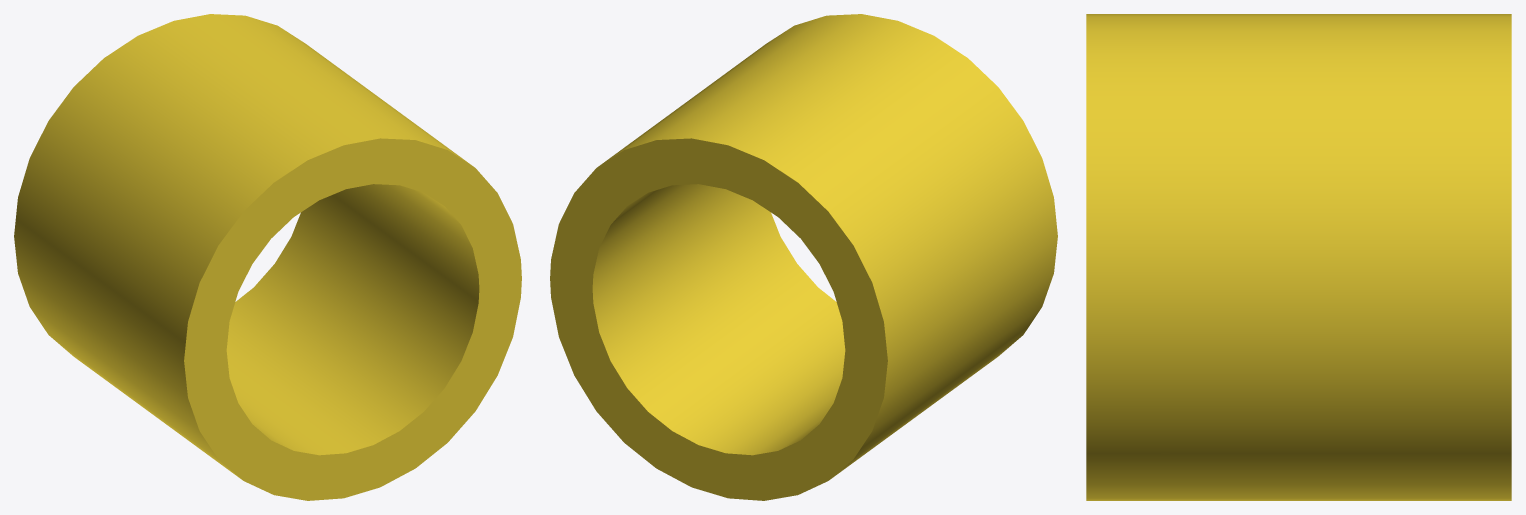
File: _6391K878_Oil_Embedded_841_Bronze_Sleeve_Bearing.gltf
3 renders of one model, left to right at view 1: azimuth 30°, elevation 25°; view 2: azimuth 150°, elevation 25°; view 3: azimuth 270°, elevation 25°, orthographic. The views are drawn at different scales.
Parts seen in each view (by area): view 1: mesh17597, mesh17598, mesh17596; view 2: mesh17597, mesh17598, mesh17599; view 3: mesh17597.
Boxes of the visible parts, bbox=[...] form: mesh17597: bbox=[14, 14, 473, 478]; mesh17598: bbox=[226, 184, 479, 455]; mesh17596: bbox=[184, 138, 521, 500]; mesh17597: bbox=[598, 14, 1057, 478]; mesh17598: bbox=[592, 184, 845, 455]; mesh17599: bbox=[550, 138, 887, 500]; mesh17597: bbox=[1086, 14, 1511, 500].
Size of the model in its own units: 0.0128 by 0.0127 by 0.0111.
